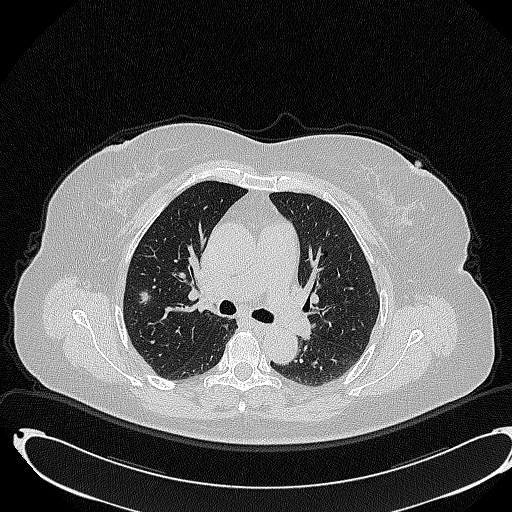nodule: (137, 290, 151, 304)
